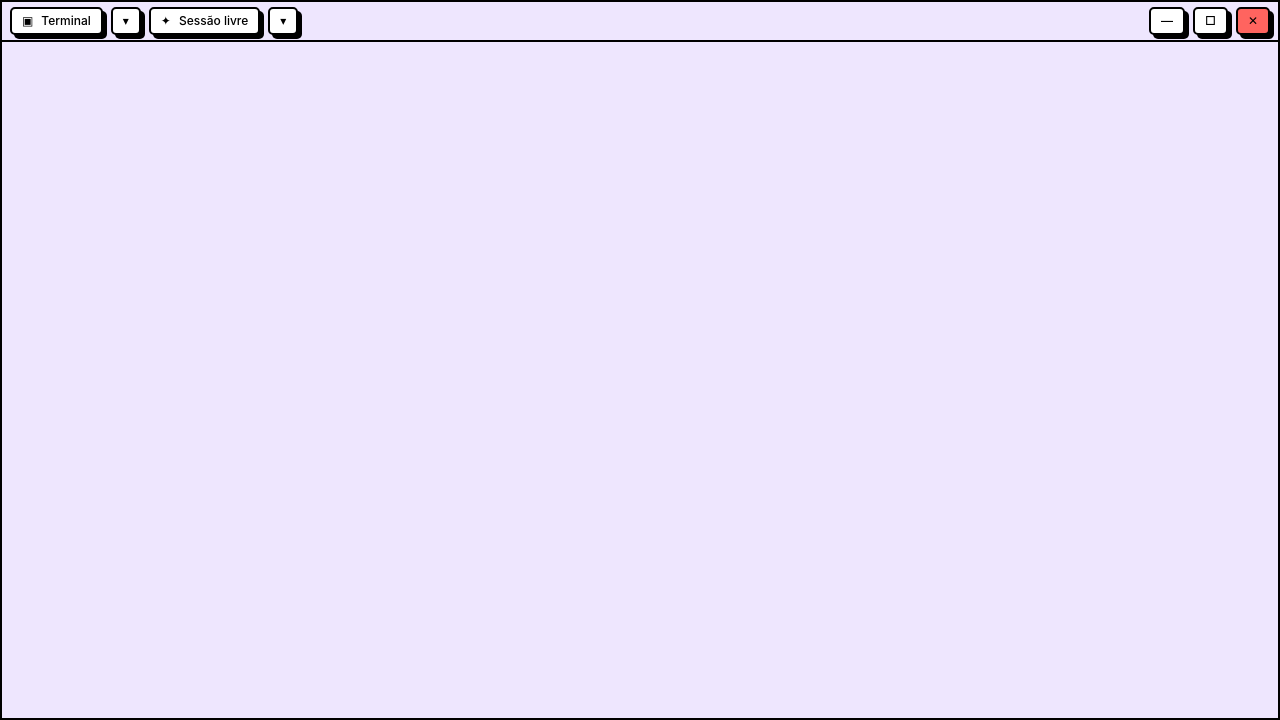
Test: #74 CA-5 — abrir é um clique › a lista fecha em `Escape` e em clique fora, e o botão que a abriu a fecha de volta
Click the button with test id "mesa-free-list" at (283, 21), box [268, 7, 298, 35]
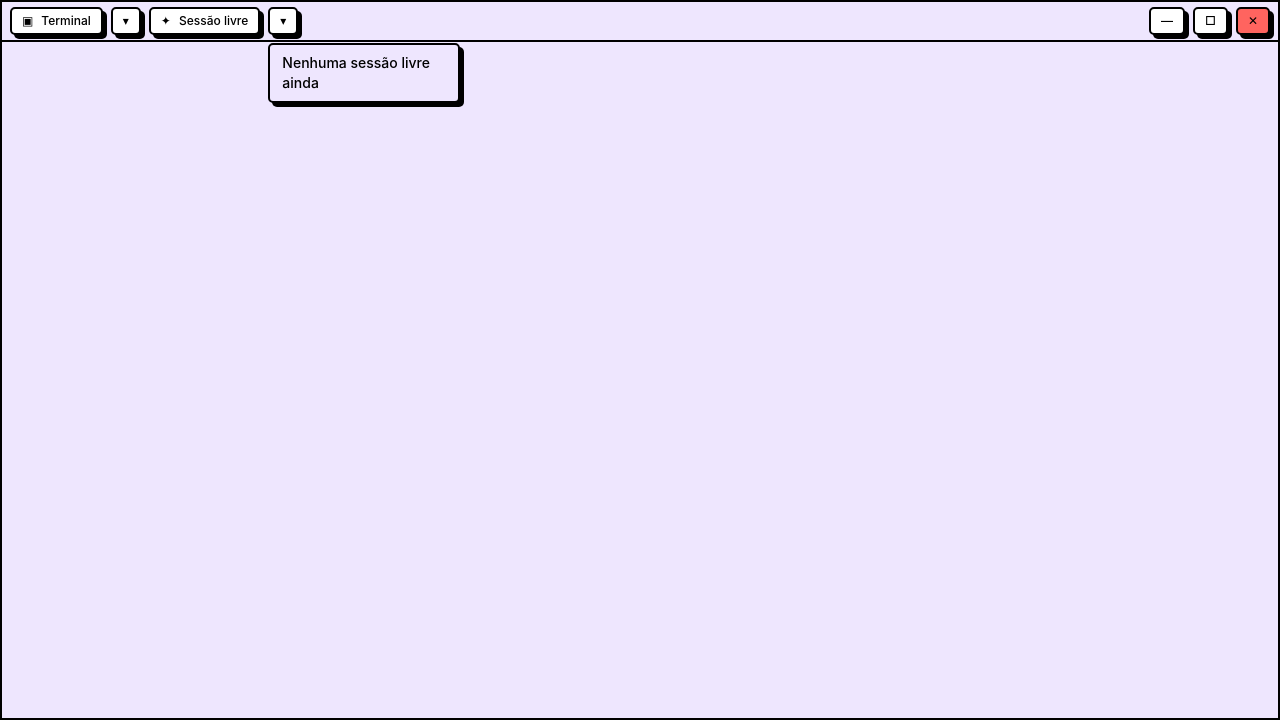
Now the menu with test id "mesa-free-menu" is shown, box [268, 43, 460, 103]
Press Escape
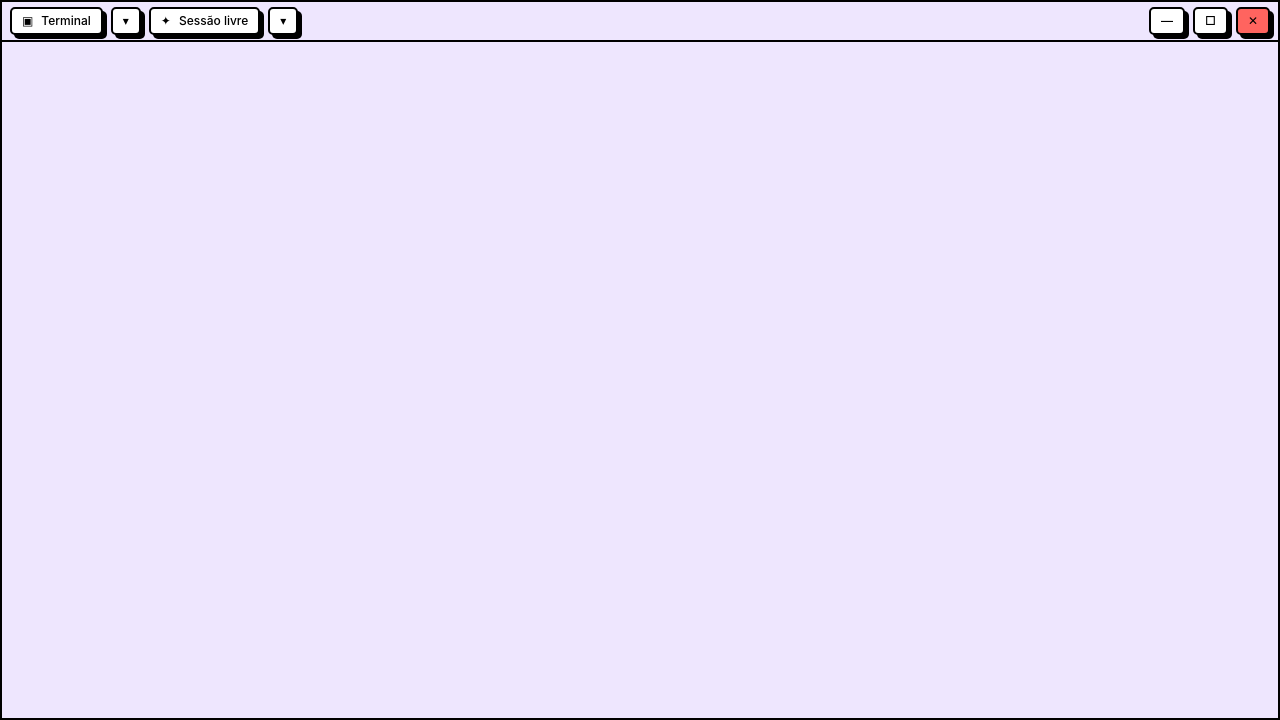
Now the menu with test id "mesa-free-menu" is gone
Click the button with test id "mesa-free-list" at (283, 21), box [268, 7, 298, 35]
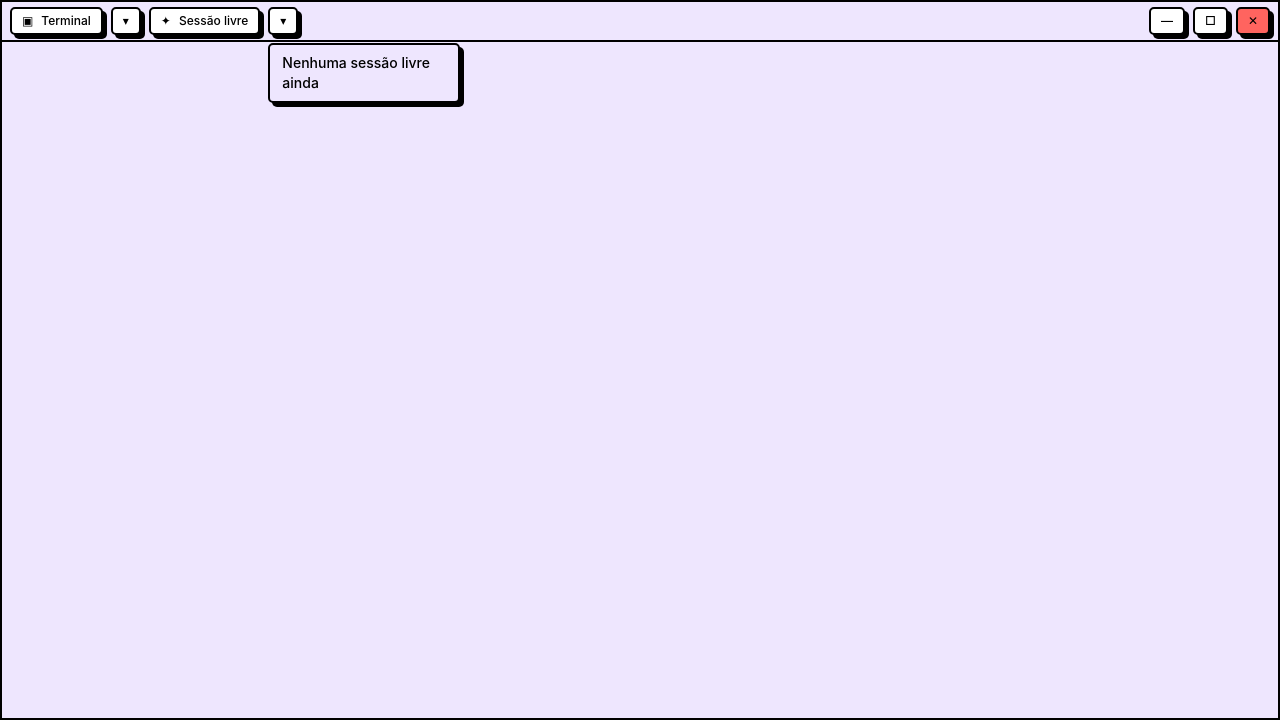
Press the mouse on the element that starts with "Terminal" at (640, 360), box [0, 0, 1279, 719]
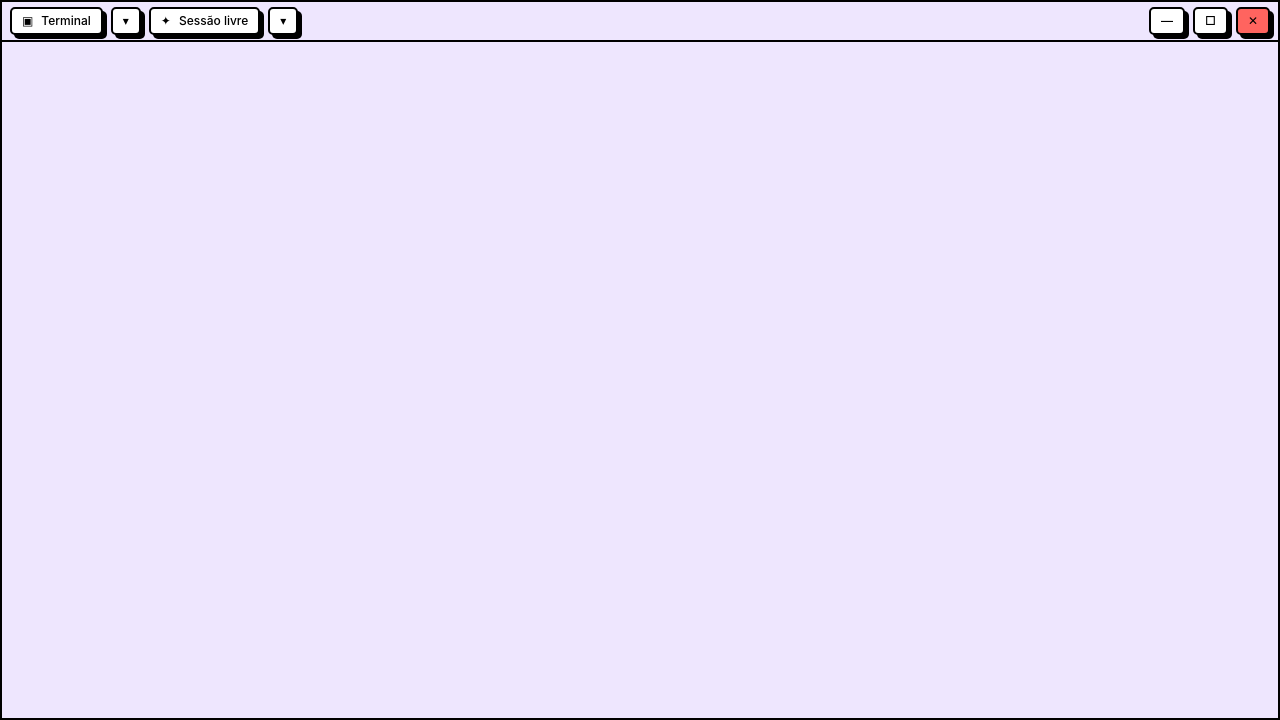
Now the menu with test id "mesa-free-menu" is gone
Click the button with test id "mesa-free-list" at (283, 21), box [268, 7, 298, 35]
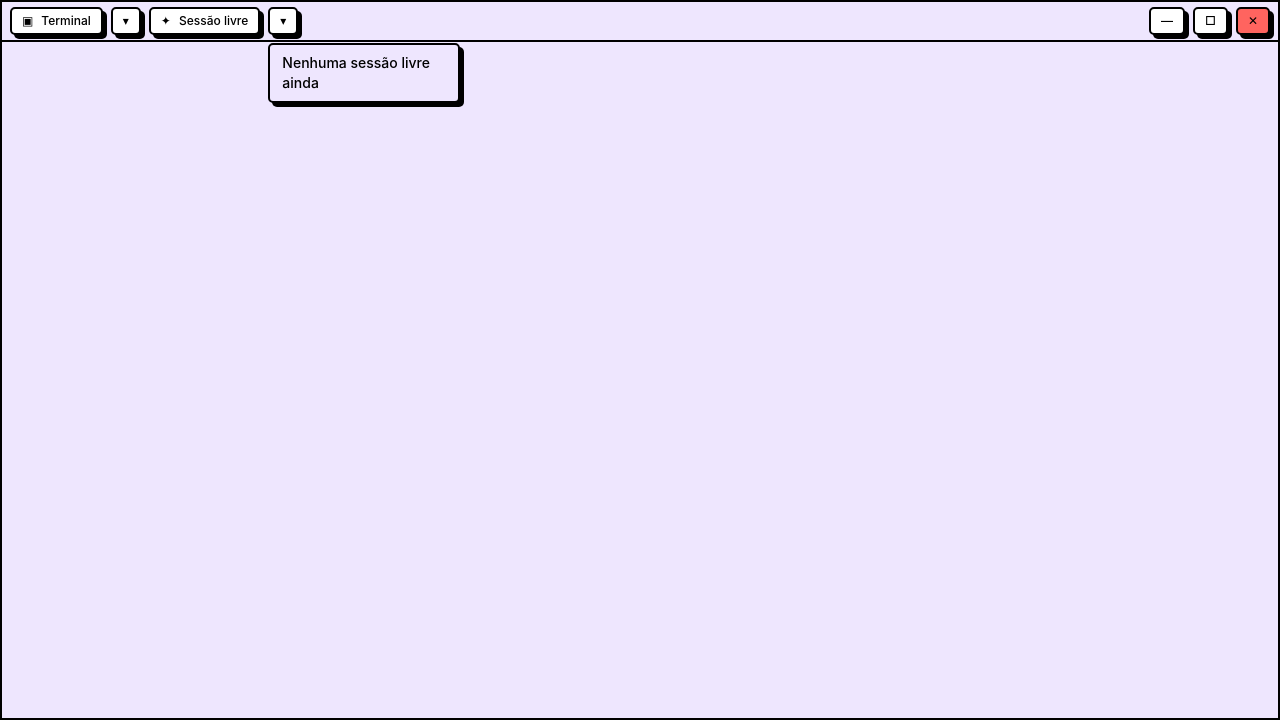
Click the button with test id "mesa-free-list" at (283, 21), box [268, 7, 298, 35]
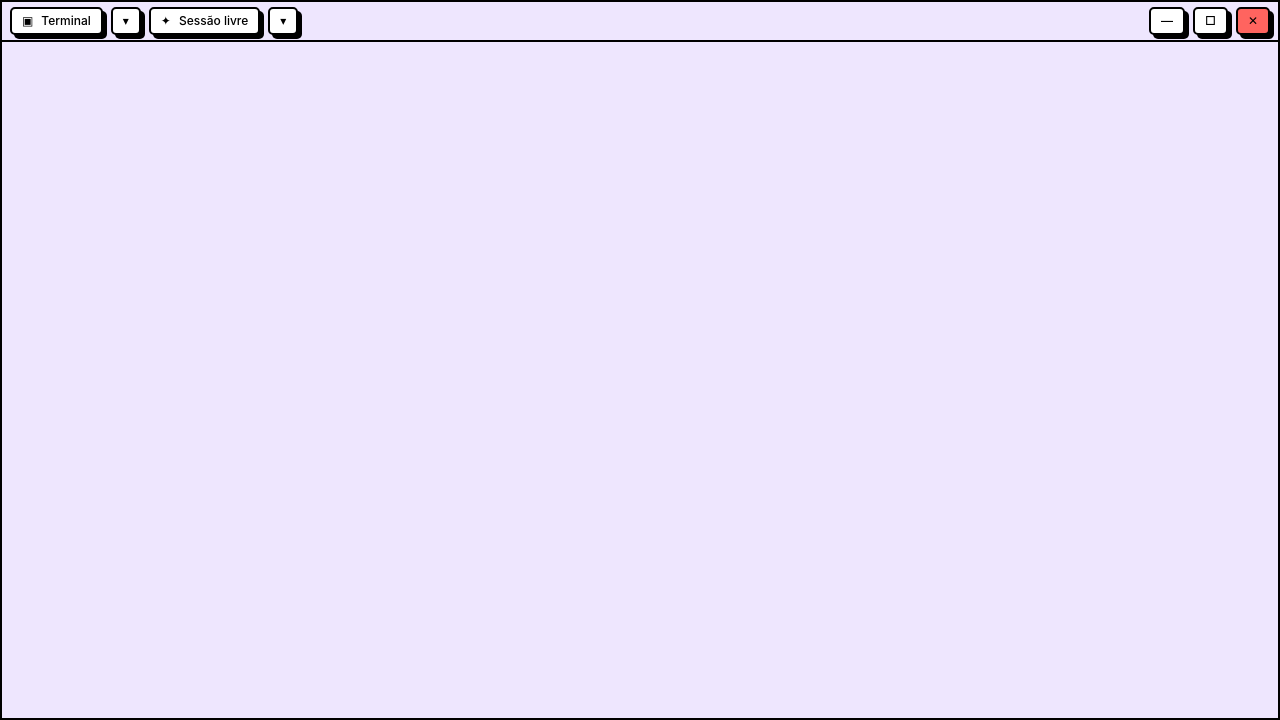
Now the menu with test id "mesa-free-menu" is gone
